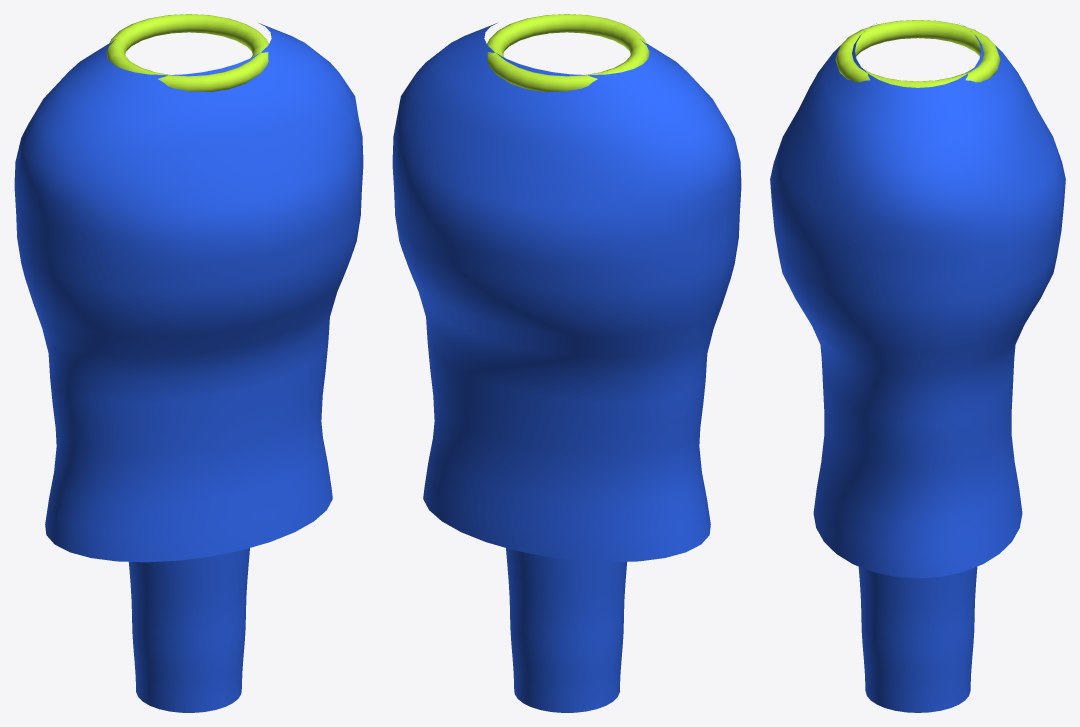
File: top_longsleeve_female.glb
The picture shows the model from 3 angles, left to right: view 1: azimuth 30°, elevation 25°; view 2: azimuth 150°, elevation 25°; view 3: azimuth 270°, elevation 25°; orthographic projection.
Visible parts, largest first — view 1: shirt, sleeve, collar; view 2: shirt, sleeve, collar; view 3: shirt, sleeve, collar.
Part boxes in pixels (x1,y1,x2,y2): shirt: (14,23,363,562); sleeve: (128,548,249,712); collar: (106,14,268,91); shirt: (392,23,741,562); sleeve: (506,548,627,712); collar: (487,14,649,91); shirt: (770,23,1065,578); sleeve: (858,566,977,712); collar: (835,20,1000,87).
Bounding box in the file's own units: 0.2996 × 0.5811 × 0.2435.
